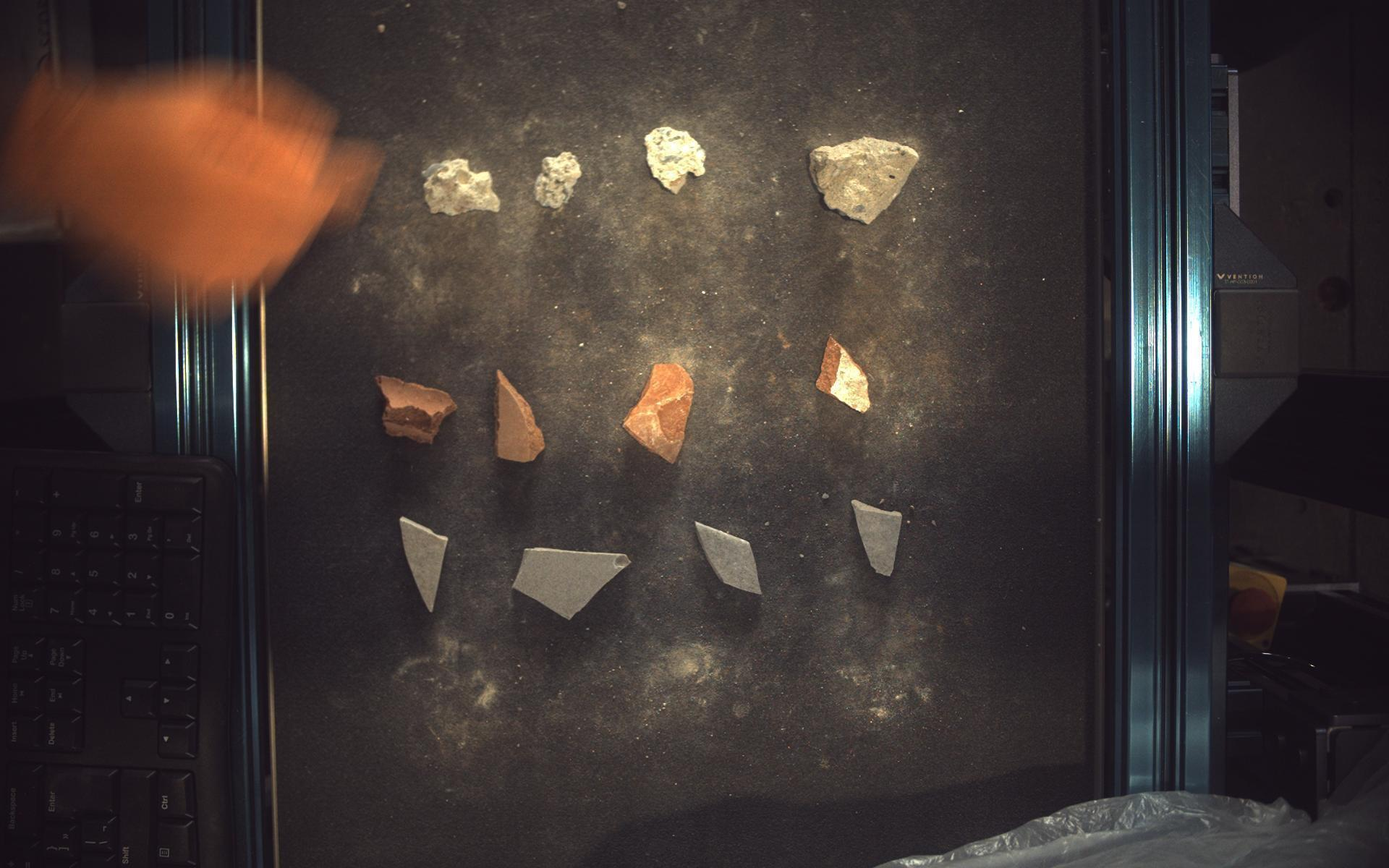brick: (624, 364, 694, 463), (375, 376, 456, 444), (496, 370, 545, 462), (817, 336, 872, 412)
concrete: (811, 136, 920, 223), (423, 158, 501, 215), (645, 125, 707, 193), (535, 150, 582, 208)
tile: (514, 548, 631, 620), (696, 522, 763, 595), (399, 517, 449, 613), (853, 500, 904, 577)
